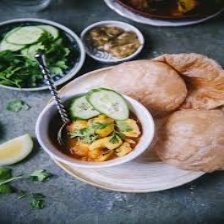sabzi: (84, 21, 141, 61)
